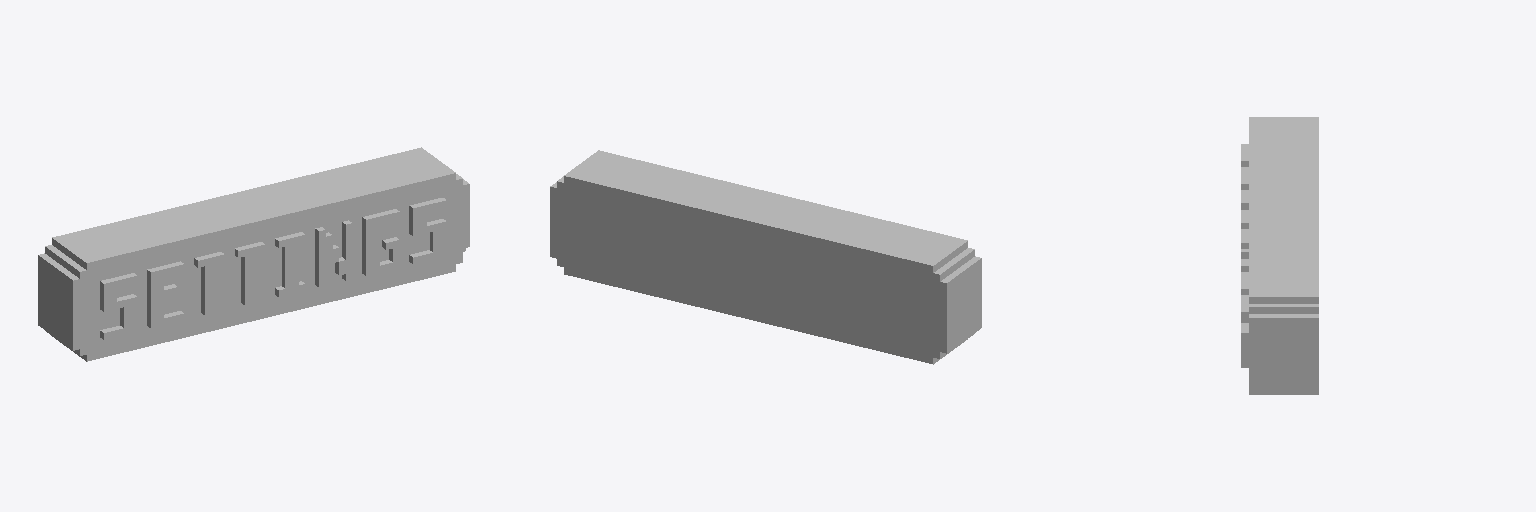
The model's file is Settings.obj.
3 renders of one model, left to right at view 1: azimuth 30°, elevation 25°; view 2: azimuth 150°, elevation 25°; view 3: azimuth 270°, elevation 25°, orthographic.
Visible parts, largest first — view 1: object 1; view 2: object 1; view 3: object 1.
Boxes of the visible parts, <box> form: object 1: <box>38,147,469,361</box>; object 1: <box>550,150,981,364</box>; object 1: <box>1241,117,1318,394</box>.
Bounding box in the file's own units: 5.9 × 1.4 × 1.